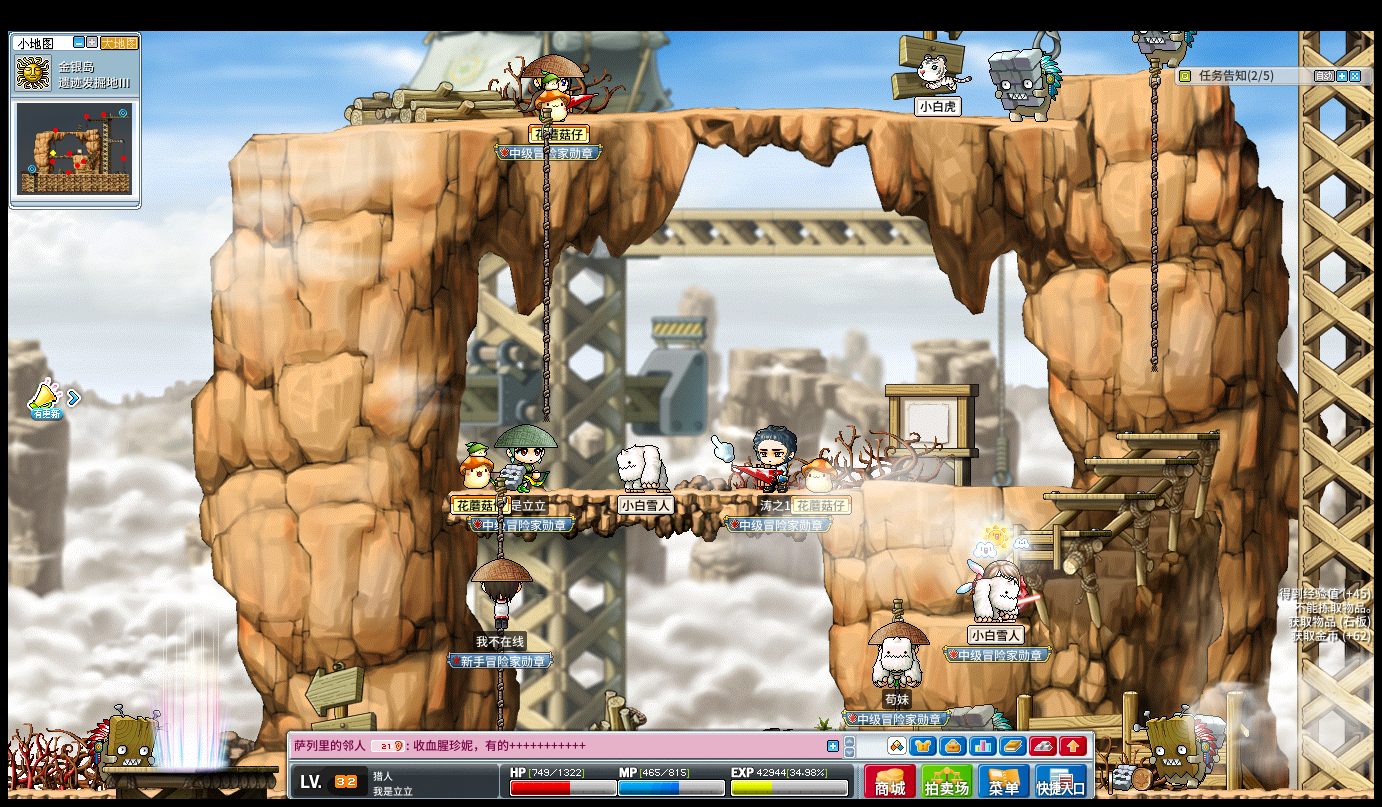floor: (233, 103, 1093, 138), (452, 487, 829, 499), (869, 482, 1079, 493), (919, 616, 1033, 632), (1066, 68, 1169, 81), (1114, 429, 1221, 441), (1077, 456, 1194, 464), (1042, 492, 1154, 500), (1000, 528, 1108, 536)
monster: (1142, 708, 1223, 791), (986, 46, 1061, 122), (88, 708, 163, 773)
rope: (1146, 55, 1160, 377), (540, 112, 550, 424), (493, 502, 504, 560), (493, 668, 503, 723)
